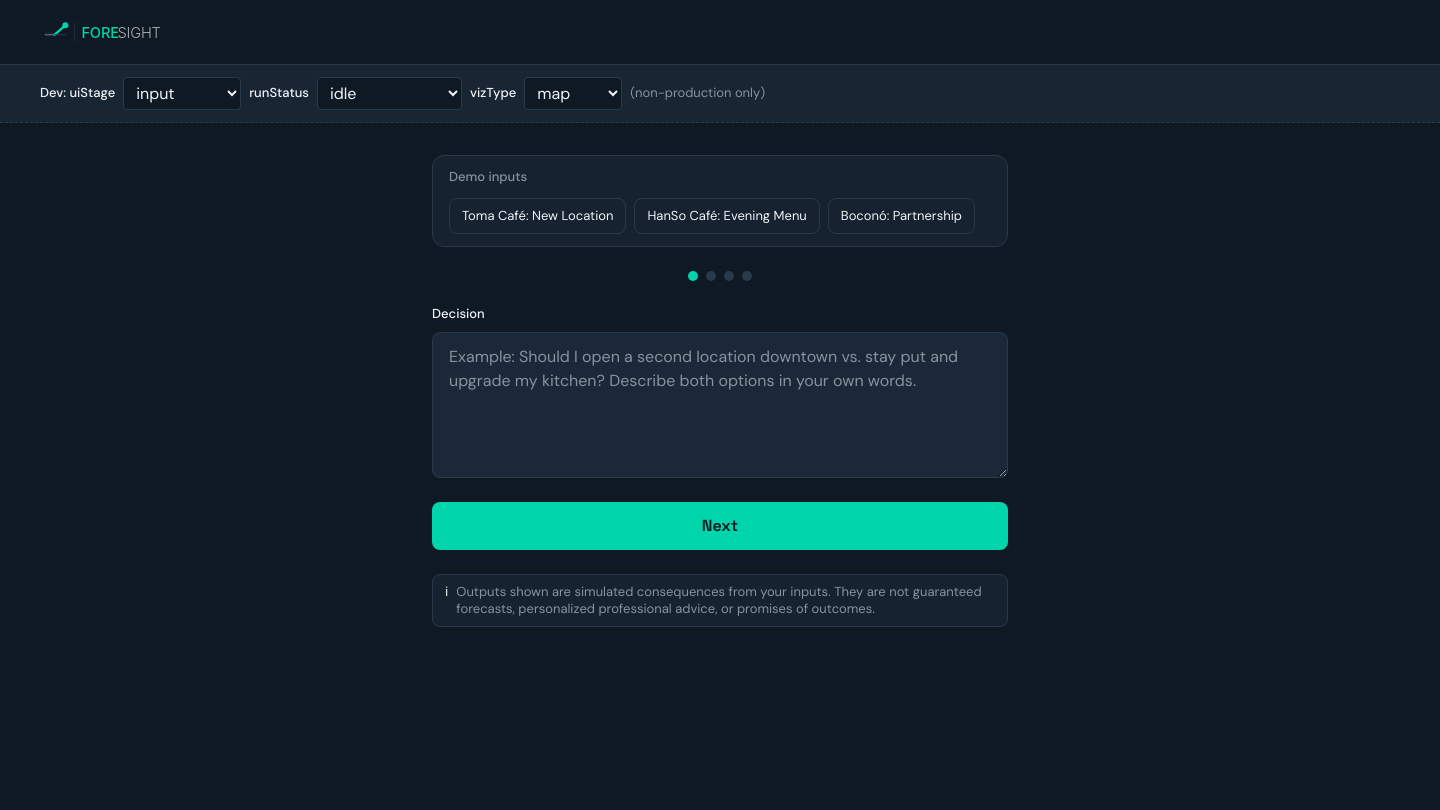
Test: ThinSliceDemo › shows running stage with three-panel slots via dev panel
Select "running" in the dropdown labelled "Dev: uiStage" at (182, 94), box [123,77,241,110]
(page scrolled)
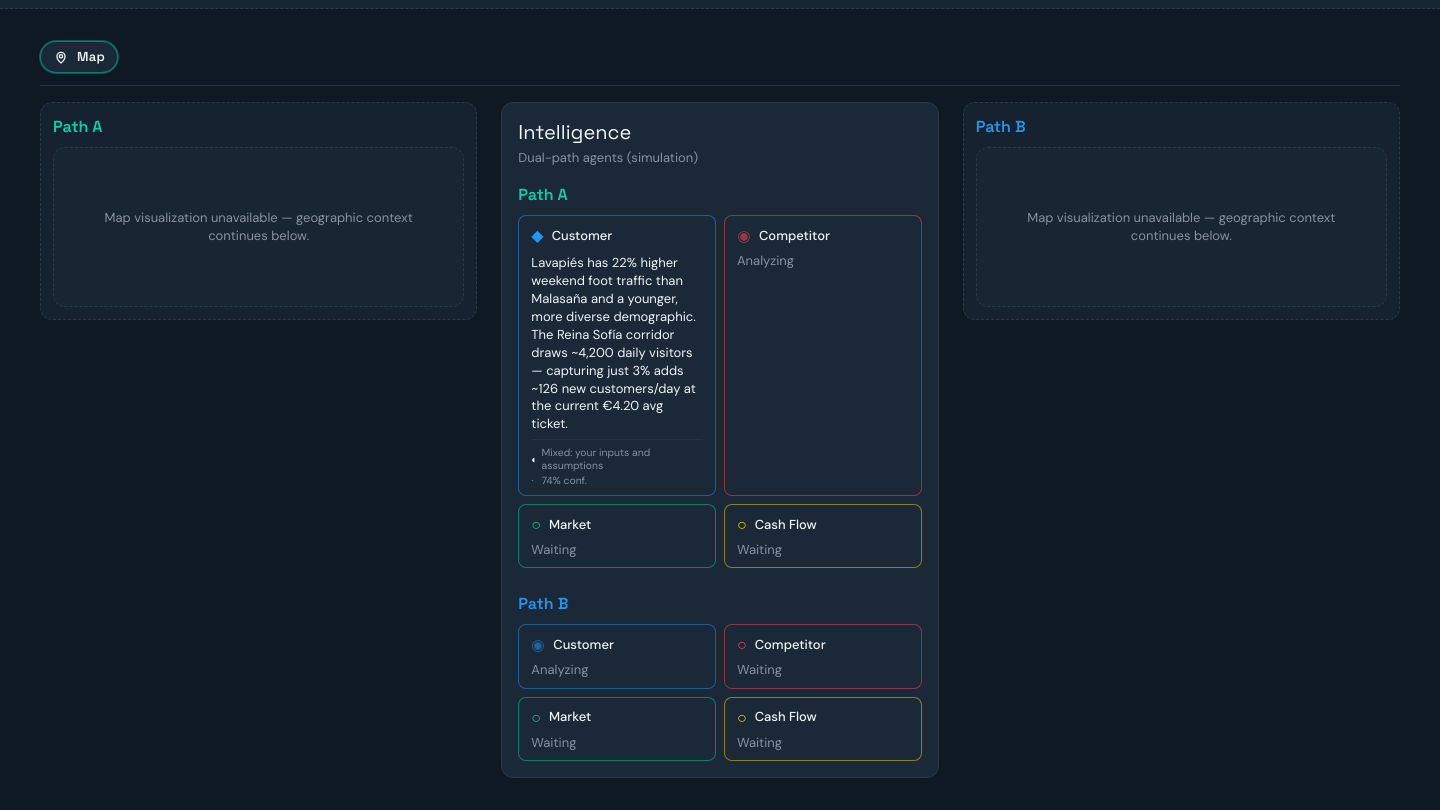
Now the element with test id "simulation-shell" is shown
Now the element named "simulation running" is shown
Now the element with test id "slot-left-panel" is shown, box [40,102,477,320]
